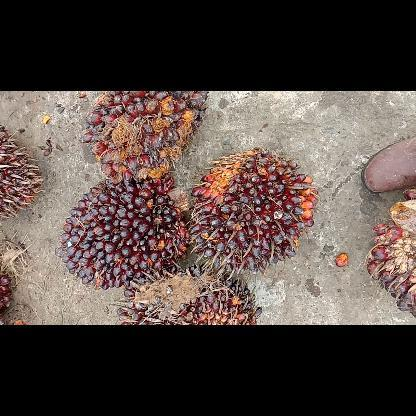Kurang masak: (188, 144, 320, 274), (53, 176, 189, 290), (80, 91, 212, 185), (115, 258, 263, 324)
